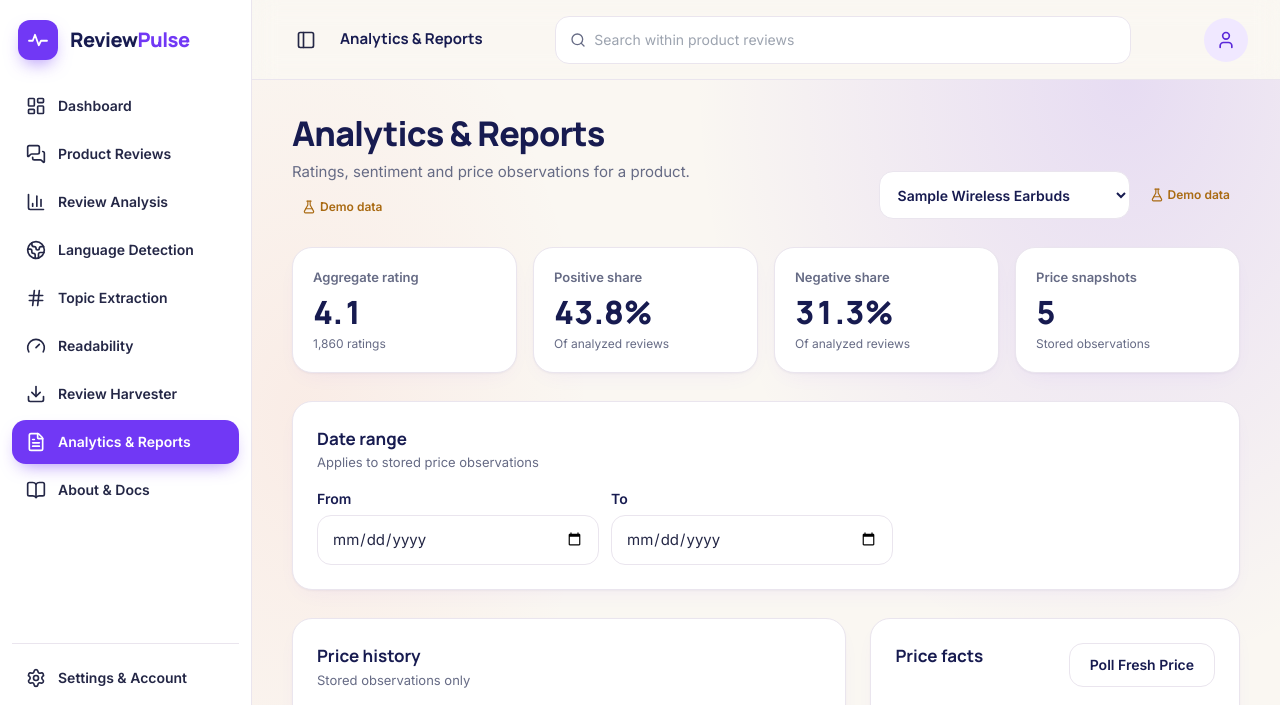
it: Interactive On-Demand Tool Integrations › PRIC-05: executes on-demand price polling and displays fresh snapshot notification
Click the button "Poll Fresh Price" at (1142,665), box [1069, 643, 1215, 687]
(page scrolled)
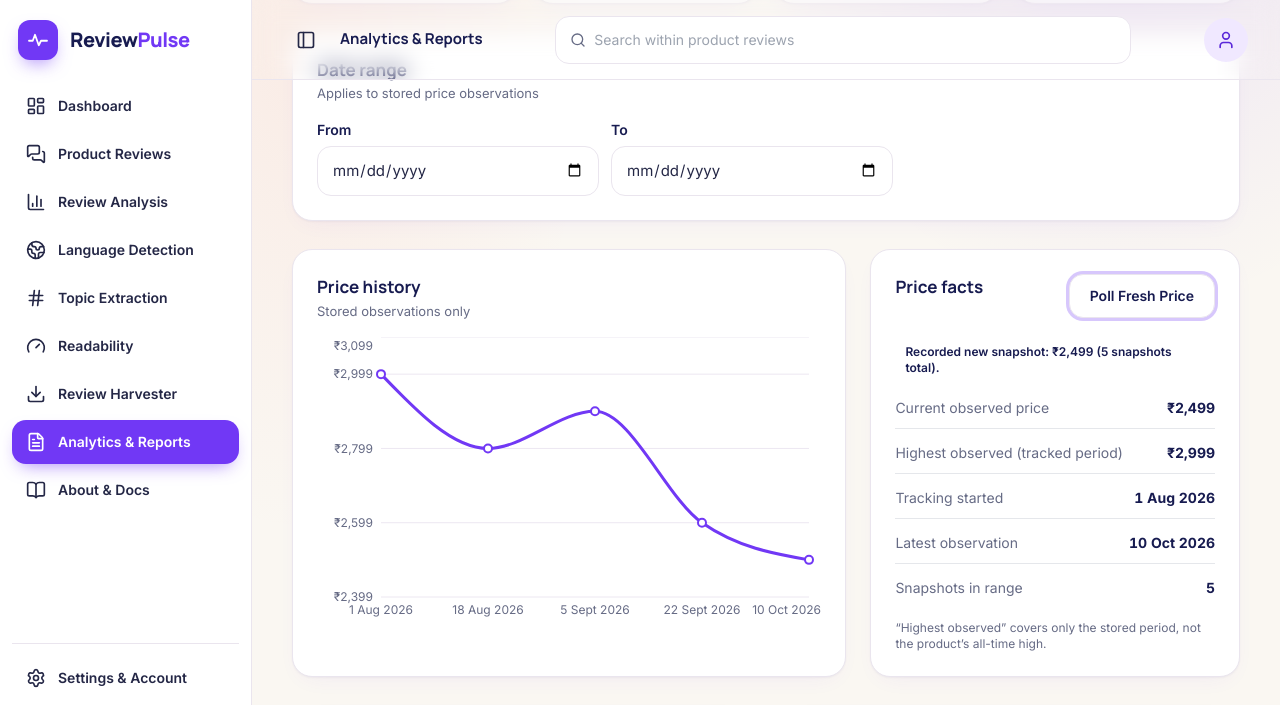
Result: the text "Recorded new snapshot: ₹2,499 (5 snapshots total)." is shown at [905, 344, 1172, 375]
